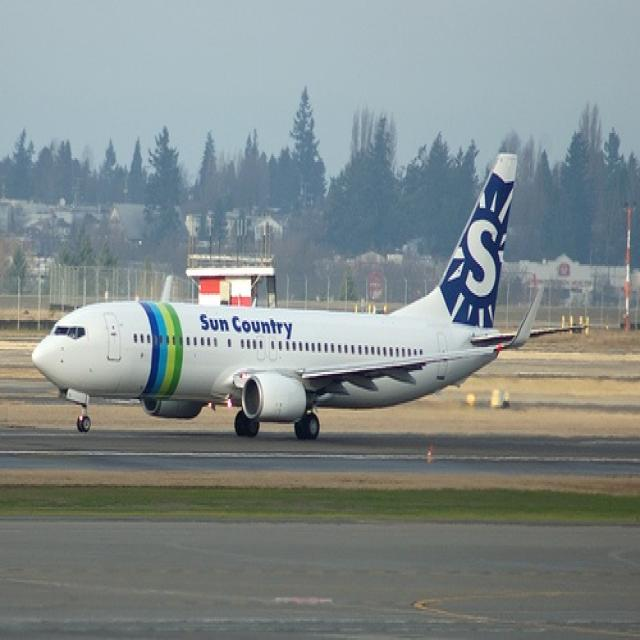aeroplane: (29, 150, 585, 438)
